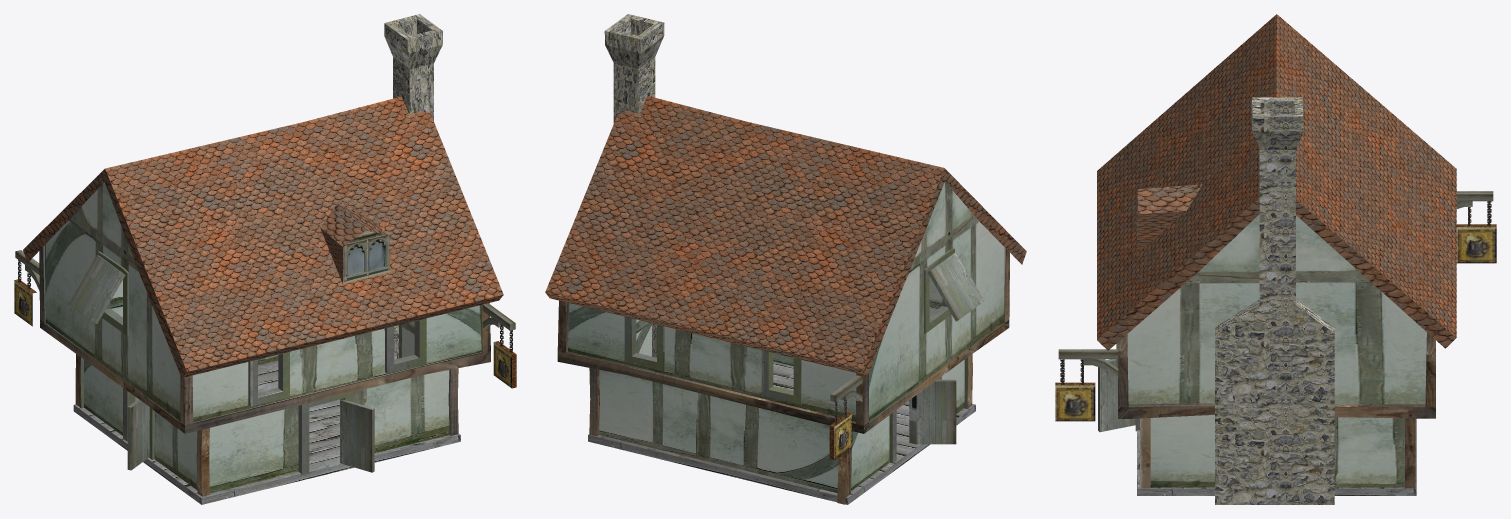
Rendered from building_inn.glb.
3 views of the same model, side by side, from view 1: azimuth 30°, elevation 25°; view 2: azimuth 150°, elevation 25°; view 3: azimuth 270°, elevation 25° (orthographic). The views are drawn at different scales.
Parts seen in each view (by area): view 1: building_inn; view 2: building_inn; view 3: building_inn.
Part boxes in pixels (x1,y1,x2,y2): building_inn: (14,14,516,504); building_inn: (545,14,1026,504); building_inn: (1055,14,1496,504).
Bounding box in the file's own units: 11.15 × 11 × 11.05.
9 materials, 9 textured.
